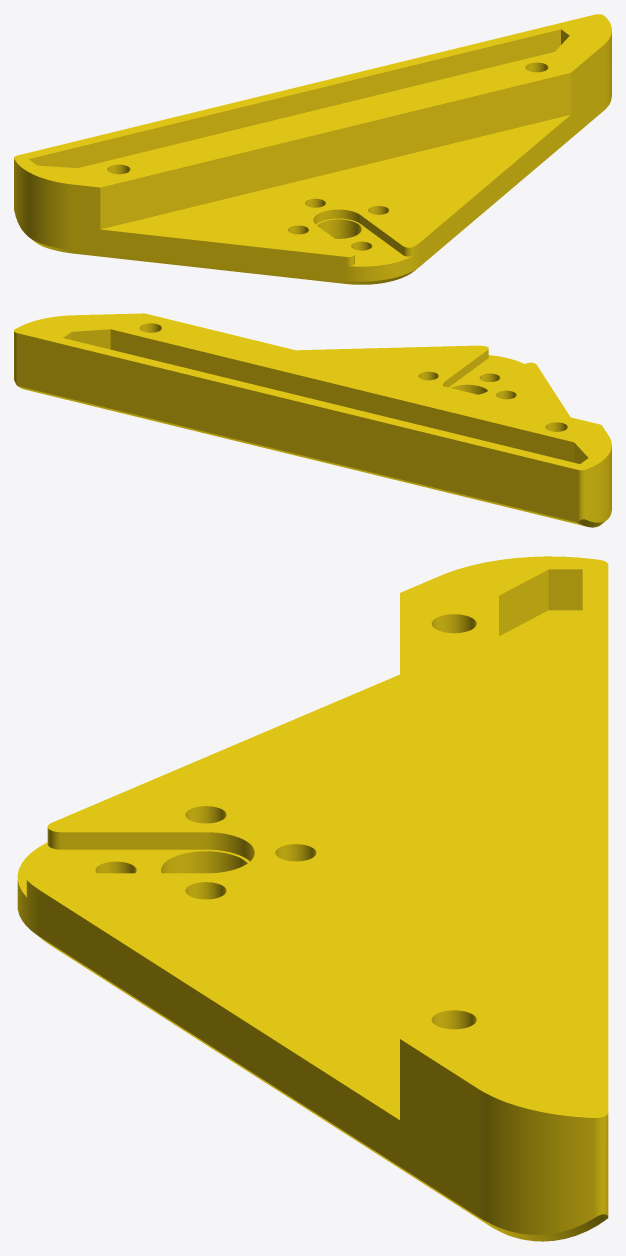
File: foot_side.gltf
3 views of the same model, one above another, from view 1: azimuth 30°, elevation 25°; view 2: azimuth 150°, elevation 25°; view 3: azimuth 270°, elevation 25° (orthographic). The views are drawn at different scales.
Visible parts, largest first — view 1: mesh504, mesh505, mesh545, mesh549, mesh525, mesh523, mesh531, mesh518, mesh511, mesh527, mesh519, mesh529 (+2 smaller); view 2: mesh533, mesh545, mesh546, mesh504, mesh531, mesh536, mesh518, mesh552, mesh532, mesh506; view 3: mesh504, mesh545, mesh547, mesh523, mesh529, mesh518, mesh507, mesh551, mesh519, mesh534, mesh550, mesh526.
Boxes of the visible parts, bbox=[...] form: mesh504: bbox=[101, 115, 569, 256]; mesh505: bbox=[100, 73, 570, 229]; mesh545: bbox=[14, 14, 611, 187]; mesh549: bbox=[29, 29, 560, 168]; mesh525: bbox=[71, 184, 344, 280]; mesh523: bbox=[420, 45, 603, 265]; mesh531: bbox=[14, 159, 71, 250]; mesh518: bbox=[316, 218, 412, 266]; mesh511: bbox=[344, 242, 420, 281]; mesh527: bbox=[72, 250, 345, 283]; mesh519: bbox=[317, 219, 361, 238]; mesh529: bbox=[603, 32, 611, 110]; mesh533: bbox=[17, 333, 578, 522]; mesh545: bbox=[14, 313, 611, 470]; mesh546: bbox=[110, 329, 574, 462]; mesh504: bbox=[297, 345, 570, 417]; mesh531: bbox=[585, 447, 611, 522]; mesh536: bbox=[18, 386, 584, 526]; mesh518: bbox=[449, 355, 524, 390]; mesh552: bbox=[71, 329, 110, 349]; mesh532: bbox=[578, 470, 585, 521]; mesh506: bbox=[446, 350, 487, 387]; mesh504: bbox=[27, 674, 399, 1119]; mesh545: bbox=[400, 556, 608, 1117]; mesh547: bbox=[499, 610, 582, 1073]; mesh523: bbox=[39, 890, 478, 1216]; mesh529: bbox=[478, 1089, 594, 1234]; mesh518: bbox=[17, 842, 249, 896]; mesh507: bbox=[60, 832, 205, 849]; mesh551: bbox=[499, 569, 548, 636]; mesh519: bbox=[161, 851, 247, 873]; mesh534: bbox=[594, 1113, 608, 1217]; mesh550: bbox=[548, 569, 582, 610]; mesh526: bbox=[40, 937, 487, 1224].
Size of the model in its own units: 0.1035 by 0.012 by 0.046.
